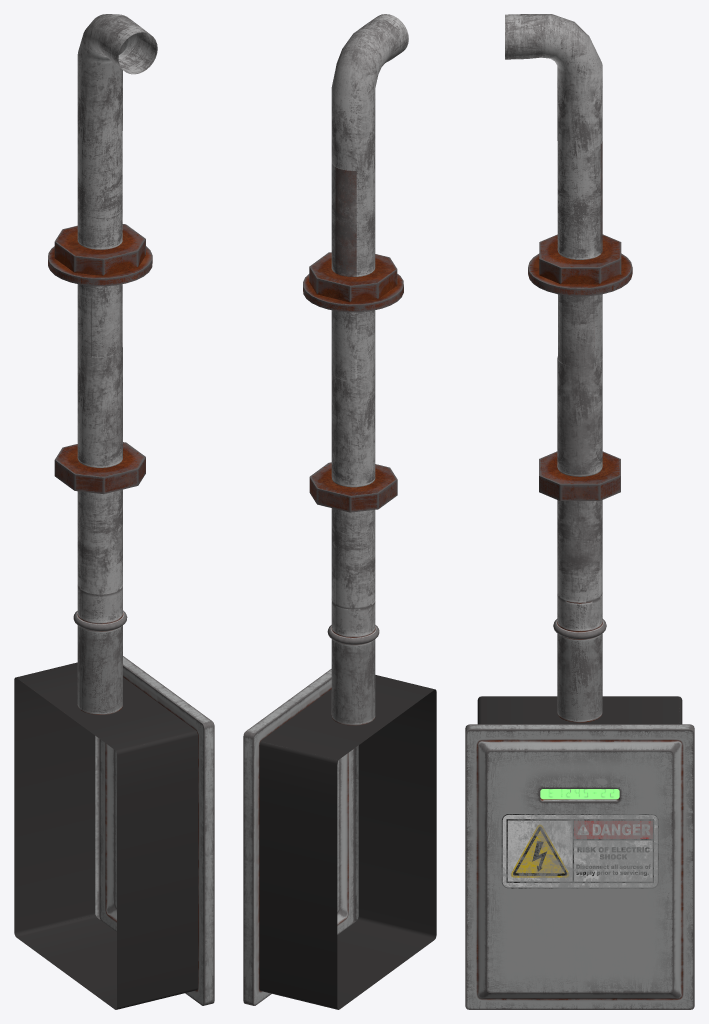
The model's file is electric.fbx.
The picture shows the model from 3 angles, left to right: view 1: azimuth 30°, elevation 25°; view 2: azimuth 150°, elevation 25°; view 3: azimuth 270°, elevation 25°; orthographic projection. The views are drawn at different scales.
Visible parts, largest first — view 1: fusebox, fusebox pipe.004, fusebox pipe.003, fusebox pipe.002, fusebox pipe; view 2: fusebox, fusebox pipe.004, fusebox pipe.003, fusebox pipe.002, fusebox pipe; view 3: fusebox, fusebox pipe.004, fusebox pipe.002, fusebox pipe.003, fusebox pipe.
Part boxes in pixels (<box>): fusebox: <box>14,586,214,1009</box>; fusebox pipe.004: <box>48,131,152,357</box>; fusebox pipe.003: <box>54,347,145,494</box>; fusebox pipe.002: <box>77,14,157,139</box>; fusebox pipe: <box>77,489,122,594</box>; fusebox: <box>243,600,436,1009</box>; fusebox pipe.004: <box>303,161,403,380</box>; fusebox pipe.003: <box>309,372,397,512</box>; fusebox pipe.002: <box>331,14,408,170</box>; fusebox pipe: <box>331,508,375,609</box>; fusebox: <box>465,594,694,1009</box>; fusebox pipe.004: <box>528,141,632,367</box>; fusebox pipe.002: <box>505,14,602,150</box>; fusebox pipe.003: <box>539,356,620,500</box>; fusebox pipe: <box>557,500,602,602</box>.
Size of the model in its own units: 23.37 by 203 by 43.7.
Materials: 2 (2 with a texture image).
